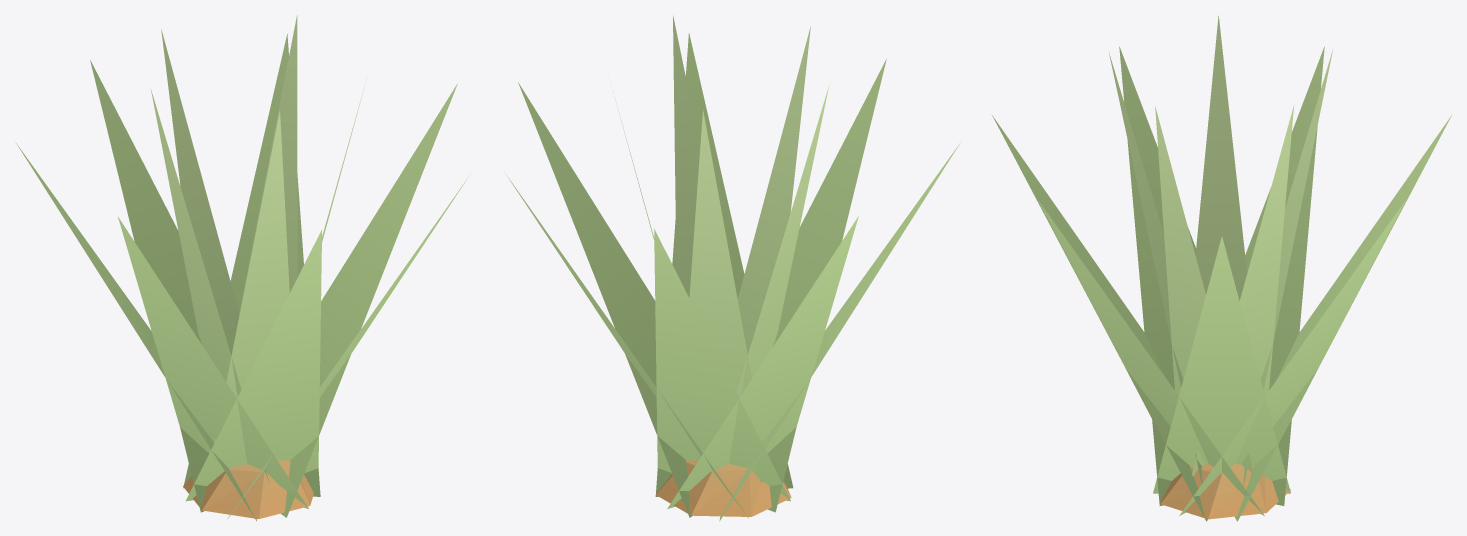
File: carrot.glb
The picture shows the model from 3 angles, left to right: view 1: azimuth 30°, elevation 25°; view 2: azimuth 150°, elevation 25°; view 3: azimuth 270°, elevation 25°; orthographic projection.
Parts seen in each view (by area): view 1: carrot_mesh; view 2: carrot_mesh; view 3: carrot_mesh.
Boxes of the visible parts, x1,y1,x2,y2 form: carrot_mesh: (15, 15, 470, 521); carrot_mesh: (505, 15, 961, 521); carrot_mesh: (991, 15, 1452, 521).
Size of the model in its own units: 0.2281 by 0.24 by 0.234.
